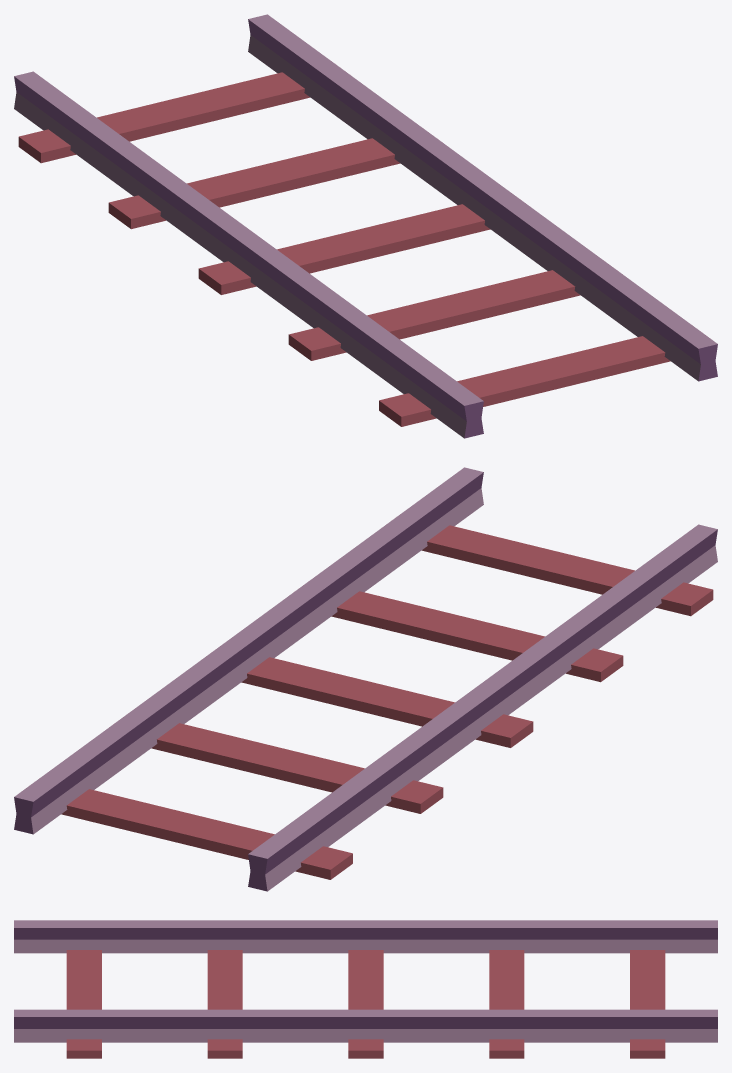
Rendered from rail_straight.obj.
3 renders of one model, top to bottom at view 1: azimuth 30°, elevation 25°; view 2: azimuth 150°, elevation 25°; view 3: azimuth 270°, elevation 25°, orthographic. The views are drawn at different scales.
Parts seen in each view (by area): view 1: rail_straight; view 2: rail_straight; view 3: rail_straight.
Part boxes in pixels (x1,y1,x2,y2): rail_straight: (14, 14, 717, 438); rail_straight: (14, 467, 717, 891); rail_straight: (14, 920, 717, 1058).
Size of the model in its own units: 2 by 0.2372 by 5.
1 material, 1 textured.
